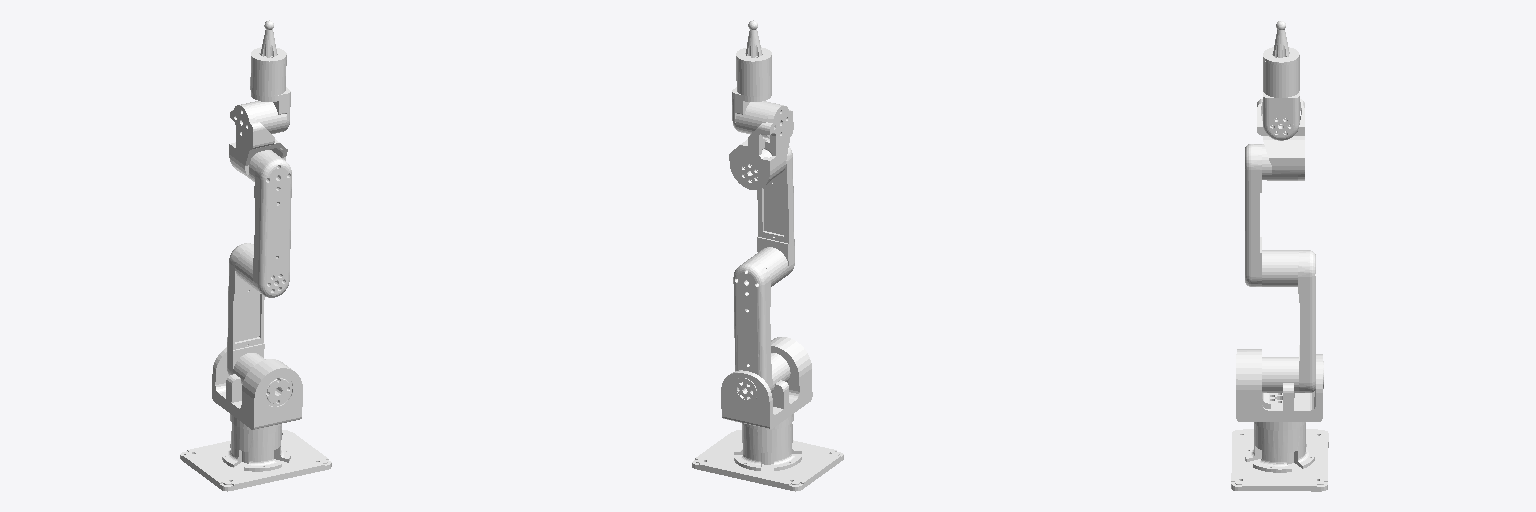
URDF robot description (miku_arm):
<?xml version="1.0" encoding="utf-8"?>
<!-- This URDF was automatically created by SolidWorks to URDF Exporter! Originally created by Stephen Brawner (brawner@gmail.com) 
     Commit Version: 1.6.0-4-g7f85cfe  Build Version: 1.6.7995.38578
     For more information, please see http://wiki.ros.org/sw_urdf_exporter -->
<robot
  name="miku_arm">
  <link
    name="base_link">
    <inertial>
      <origin
        xyz="0.010645 -0.010486 1.5689E-05"
        rpy="0 0 0" />
      <mass
        value="0.65234" />
      <inertia
        ixx="0.00083423"
        ixy="2.0603E-05"
        ixz="-2.48E-06"
        iyy="0.0018578"
        iyz="4.4884E-07"
        izz="0.0012592" />
    </inertial>
    <visual>
      <origin
        xyz="0 0 0"
        rpy="0 0 0" />
      <geometry>
        <mesh
          filename="package://miku_arm/meshes/base_link.STL" />
      </geometry>
      <material
        name="">
        <color
          rgba="1 1 1 1" />
      </material>
    </visual>
    <collision>
      <origin
        xyz="0 0 0"
        rpy="0 0 0" />
      <geometry>
        <mesh
          filename="package://miku_arm/meshes/base_link.STL" />
      </geometry>
    </collision>
  </link>
  <link
    name="link_1">
    <inertial>
      <origin
        xyz="0.010197 0.067289 0.00068246"
        rpy="0 0 0" />
      <mass
        value="0.69243" />
      <inertia
        ixx="0.00082897"
        ixy="-0.00021255"
        ixz="-1.0958E-05"
        iyy="0.0013747"
        iyz="1.0531E-05"
        izz="0.0014367" />
    </inertial>
    <visual>
      <origin
        xyz="0 0 0"
        rpy="0 0 0" />
      <geometry>
        <mesh
          filename="package://miku_arm/meshes/link_1.STL" />
      </geometry>
      <material
        name="">
        <color
          rgba="1 1 1 1" />
      </material>
    </visual>
    <collision>
      <origin
        xyz="0 0 0"
        rpy="0 0 0" />
      <geometry>
        <mesh
          filename="package://miku_arm/meshes/link_1.STL" />
      </geometry>
    </collision>
  </link>
  <joint
    name="joint_1"
    type="revolute">
    <origin
      xyz="0.011371 -3.9704E-05 0.025603"
      rpy="1.5507 0.00054808 -1.5767" />
    <parent
      link="base_link" />
    <child
      link="link_1" />
    <axis
      xyz="0 1 0" />
    <limit
      lower="-2.3562"
      upper="2.3562"
      effort="9"
      velocity="2" />
  </joint>
  <link
    name="link_2">
    <inertial>
      <origin
        xyz="0.11068 0.034869 1.069E-08"
        rpy="0 0 0" />
      <mass
        value="0.68644" />
      <inertia
        ixx="0.00023475"
        ixy="1.5737E-05"
        ixz="-6.862E-11"
        iyy="0.0027619"
        iyz="-1.4098E-10"
        izz="0.0026635" />
    </inertial>
    <visual>
      <origin
        xyz="0 0 0"
        rpy="0 0 0" />
      <geometry>
        <mesh
          filename="package://miku_arm/meshes/link_2.STL" />
      </geometry>
      <material
        name="">
        <color
          rgba="1 1 1 1" />
      </material>
    </visual>
    <collision>
      <origin
        xyz="0 0 0"
        rpy="0 0 0" />
      <geometry>
        <mesh
          filename="package://miku_arm/meshes/link_2.STL" />
      </geometry>
    </collision>
  </link>
  <joint
    name="joint_2"
    type="revolute">
    <origin
      xyz="0 0.08788 0"
      rpy="0 0 1.5708" />
    <parent
      link="link_1" />
    <child
      link="link_2" />
    <axis
      xyz="0 1 0" />
    <limit
      lower="-1.5708"
      upper="1.5708"
      effort="9"
      velocity="2" />
  </joint>
  <link
    name="link_3">
    <inertial>
      <origin
        xyz="0.110053650868383 0.0335164692750554 1.94705920449068E-08"
        rpy="0 0 0" />
      <mass
        value="0.737398995126995" />
      <inertia
        ixx="0.000251131834416106"
        ixy="-1.0602383826204E-06"
        ixz="-6.40044512792178E-11"
        iyy="0.00296672370630292"
        iyz="-2.37049058445746E-10"
        izz="0.00285224309005797" />
    </inertial>
    <visual>
      <origin
        xyz="0 0 0"
        rpy="0 0 0" />
      <geometry>
        <mesh
          filename="package://miku_arm/meshes/link_3.STL" />
      </geometry>
      <material
        name="">
        <color
          rgba="1 1 1 1" />
      </material>
    </visual>
    <collision>
      <origin
        xyz="0 0 0"
        rpy="0 0 0" />
      <geometry>
        <mesh
          filename="package://miku_arm/meshes/link_3.STL" />
      </geometry>
    </collision>
  </link>
  <joint
    name="joint_3"
    type="revolute">
    <origin
      xyz="0.184 0 0"
      rpy="3.1416 0 0" />
    <parent
      link="link_2" />
    <child
      link="link_3" />
    <axis
      xyz="0 1 0" />
    <limit
      lower="-1.5708"
      upper="1.5708"
      effort="9"
      velocity="2" />
  </joint>
  <link
    name="link_4">
    <inertial>
      <origin
        xyz="0.049628 -0.0075971 0.0074952"
        rpy="0 0 0" />
      <mass
        value="0.60269" />
      <inertia
        ixx="0.00052062"
        ixy="0.00013803"
        ixz="0.00014077"
        iyy="0.00067664"
        iyz="-6.3687E-05"
        izz="0.00068779" />
    </inertial>
    <visual>
      <origin
        xyz="0 0 0"
        rpy="0 0 0" />
      <geometry>
        <mesh
          filename="package://miku_arm/meshes/link_4.STL" />
      </geometry>
      <material
        name="">
        <color
          rgba="1 1 1 1" />
      </material>
    </visual>
    <collision>
      <origin
        xyz="0 0 0"
        rpy="0 0 0" />
      <geometry>
        <mesh
          filename="package://miku_arm/meshes/link_4.STL" />
      </geometry>
    </collision>
  </link>
  <joint
    name="joint_4"
    type="revolute">
    <origin
      xyz="0.184 0 0"
      rpy="1.5708 0 0" />
    <parent
      link="link_3" />
    <child
      link="link_4" />
    <axis
      xyz="0 0 1" />
    <limit
      lower="-1.5708"
      upper="1.5708"
      effort="9"
      velocity="2" />
  </joint>
  <link
    name="link_5">
    <inertial>
      <origin
        xyz="-0.0603 -0.014918 -1.3904E-09"
        rpy="0 0 0" />
      <mass
        value="0.20932" />
      <inertia
        ixx="8.7973E-05"
        ixy="9.7337E-06"
        ixz="8.3843E-13"
        iyy="0.00010977"
        iyz="-4.0408E-13"
        izz="0.00010465" />
    </inertial>
    <visual>
      <origin
        xyz="0 0 0"
        rpy="0 0 0" />
      <geometry>
        <mesh
          filename="package://miku_arm/meshes/link_5.STL" />
      </geometry>
      <material
        name="">
        <color
          rgba="1 1 1 1" />
      </material>
    </visual>
    <collision>
      <origin
        xyz="0 0 0"
        rpy="0 0 0" />
      <geometry>
        <mesh
          filename="package://miku_arm/meshes/link_5.STL" />
      </geometry>
    </collision>
  </link>
  <joint
    name="joint_5"
    type="revolute">
    <origin
      xyz="0.0815 0 0.0025"
      rpy="0 0 -3.1416" />
    <parent
      link="link_4" />
    <child
      link="link_5" />
    <axis
      xyz="0 -1 0" />
    <limit
      lower="-1.5708"
      upper="1.5708"
      effort="9"
      velocity="2" />
  </joint>
  <link
    name="link_6">
    <inertial>
      <origin
        xyz="-1.5722E-10 0.016911 -1.5926E-10"
        rpy="0 0 0" />
      <mass
        value="0.027017" />
      <inertia
        ixx="1.0603E-05"
        ixy="8.2392E-15"
        ixz="4.9083E-15"
        iyy="5.8416E-06"
        iyz="5.3079E-14"
        izz="1.0603E-05" />
    </inertial>
    <visual>
      <origin
        xyz="0 0 0"
        rpy="0 0 0" />
      <geometry>
        <mesh
          filename="package://miku_arm/meshes/link_6.STL" />
      </geometry>
      <material
        name="">
        <color
          rgba="1 1 1 1" />
      </material>
    </visual>
    <collision>
      <origin
        xyz="0 0 0"
        rpy="0 0 0" />
      <geometry>
        <mesh
          filename="package://miku_arm/meshes/link_6.STL" />
      </geometry>
    </collision>
  </link>
  <joint
    name="joint_6"
    type="revolute">
    <origin
      xyz="-0.10372 -0.0105 0"
      rpy="-3.1416 0.11723 -1.5708" />
    <parent
      link="link_5" />
    <child
      link="link_6" />
    <axis
      xyz="0 1 0" />
    <limit
      lower="-2.3562"
      upper="2.3562"
      effort="9"
      velocity="2" />
  </joint>
</robot>

--- What the picture shows (computed from the rendered views, not written in the file) ---
Views: 3 orthographic renders of the robot side by side, from view 1: azimuth 30°, elevation 25°; view 2: azimuth 150°, elevation 25°; view 3: azimuth 270°, elevation 25°.
Robot: miku_arm — 7 links, 6 joints (6 revolute); root link base_link; default pose: every joint at zero.
Links seen in each view (by area): view 1: base_link, link_1, link_3, link_2, link_4, link_5, link_6; view 2: base_link, link_1, link_2, link_4, link_3, link_5, link_6; view 3: base_link, link_1, link_2, link_3, link_5, link_4, link_6.
Boxes of the visible links, x1,y1,x2,y2 form: base_link: (180,414,331,491); link_1: (212,347,302,429); link_3: (240,150,291,297); link_2: (227,243,264,375); link_4: (229,101,287,175); link_5: (250,58,290,131); link_6: (251,20,286,63); base_link: (692,414,843,491); link_1: (721,337,812,428); link_2: (733,247,788,399); link_4: (729,101,793,189); link_3: (751,146,794,275); link_5: (732,58,771,131); link_6: (736,20,771,63); base_link: (1231,422,1328,491); link_1: (1236,349,1323,421); link_2: (1262,250,1315,392); link_3: (1245,144,1297,286); link_5: (1263,58,1299,140); link_4: (1257,99,1304,180); link_6: (1263,21,1299,64).
Bounding box of the posed robot: 0.2009 × 0.1511 × 0.7716 m (x, y, z).
Meshes: 7 distinct files referenced, 7 mesh visuals loaded (7 binary STL).
